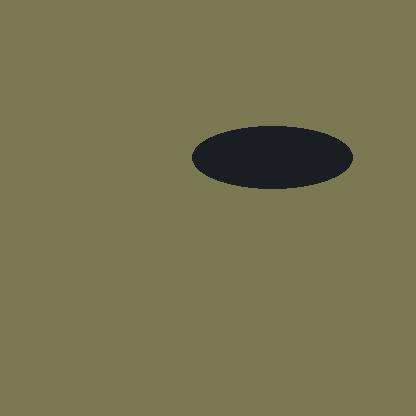pothole: (192, 126, 352, 188)
